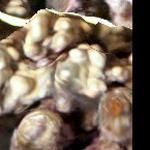alive: (5, 4, 130, 145)
